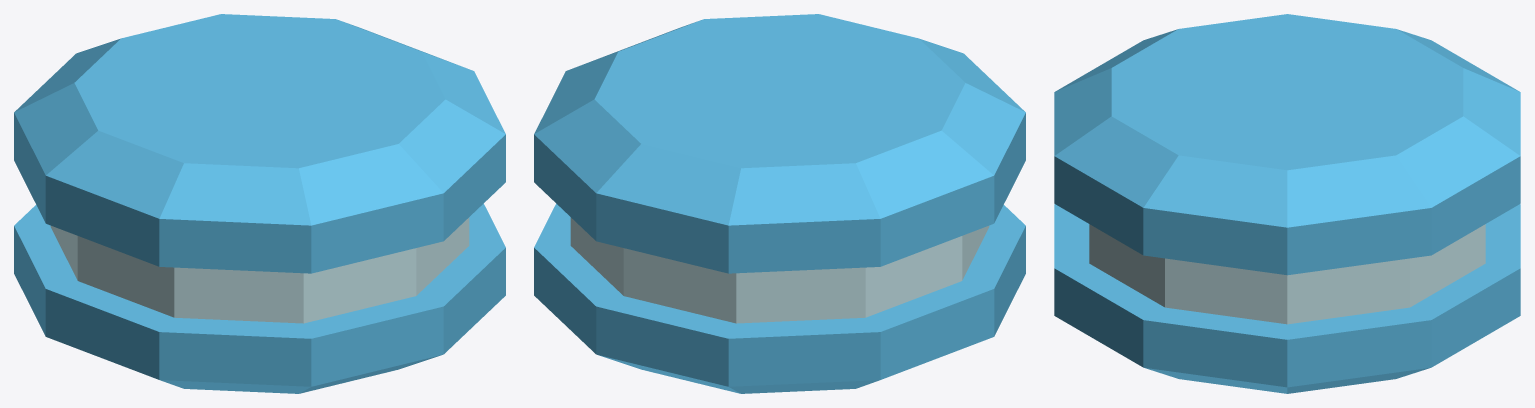
The model's file is macaron01.fbx.
3 renders of one model, left to right at view 1: azimuth 30°, elevation 25°; view 2: azimuth 150°, elevation 25°; view 3: azimuth 270°, elevation 25°, orthographic.
Visible parts, largest first — view 1: macaron01; view 2: macaron01; view 3: macaron01.
Boxes of the visible parts, <box> form: macaron01: <box>14,14,505,393</box>; macaron01: <box>534,14,1025,393</box>; macaron01: <box>1054,14,1520,393</box>.
Bounding box in the file's own units: 80.55 × 40.56 × 76.61.
Materials: 1 (1 with a texture image).
